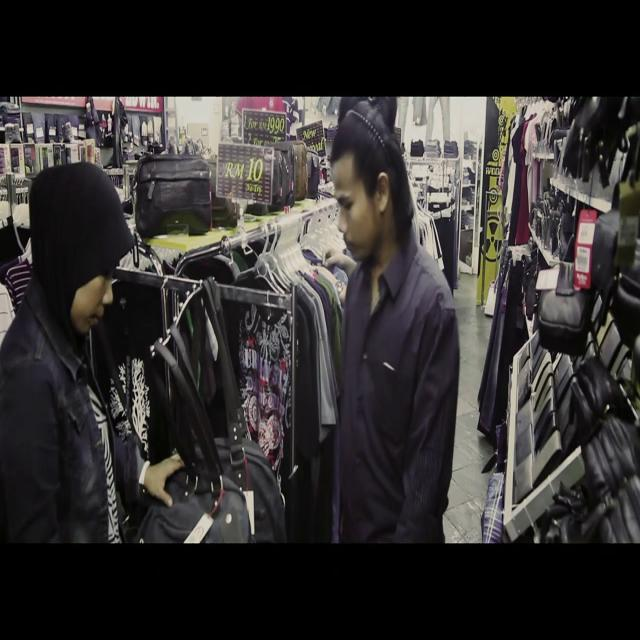normal: (279, 102, 510, 552), (0, 135, 247, 547)
